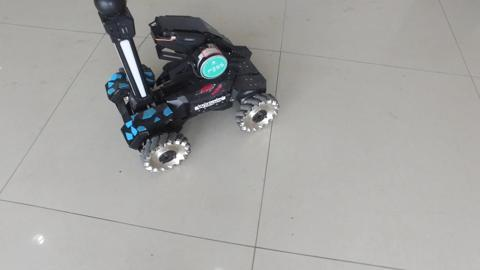chariot: (77, 14, 292, 177)
